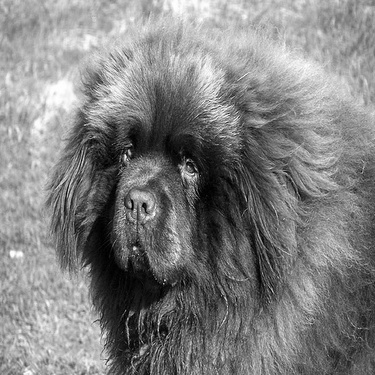dog: (40, 6, 373, 371)
